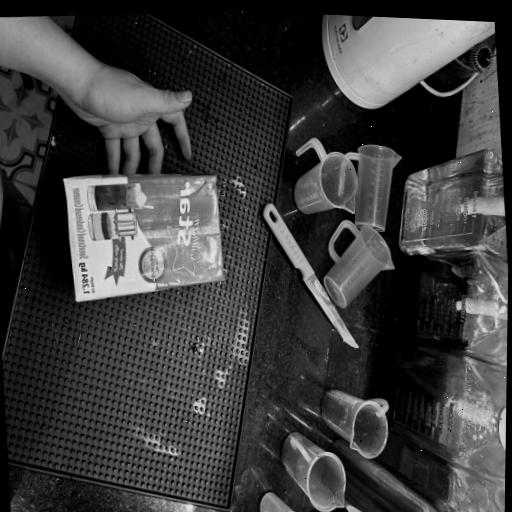sua_dac: (63, 173, 223, 302)
